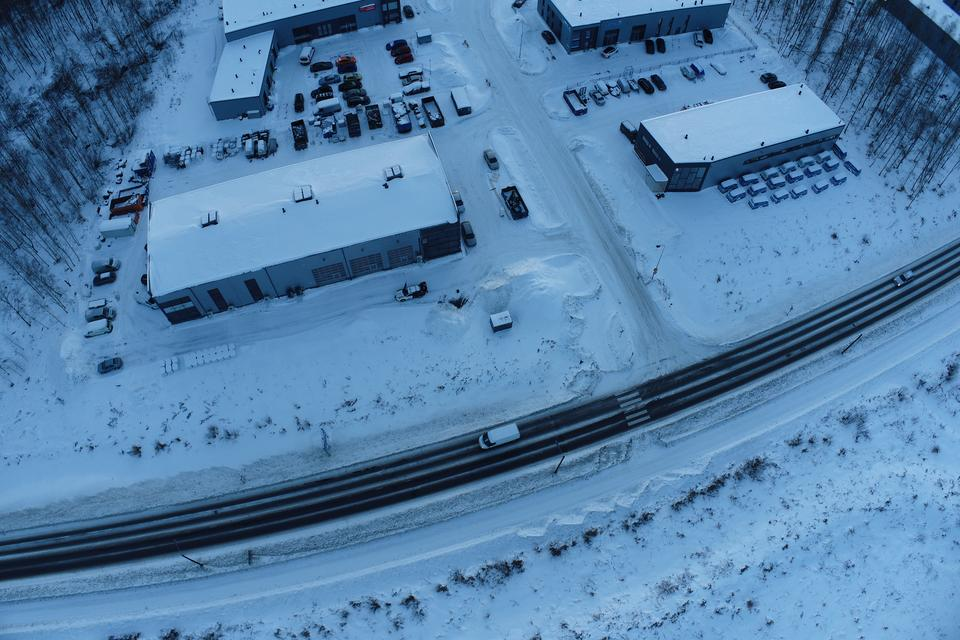intersection: (595, 302, 726, 454)
